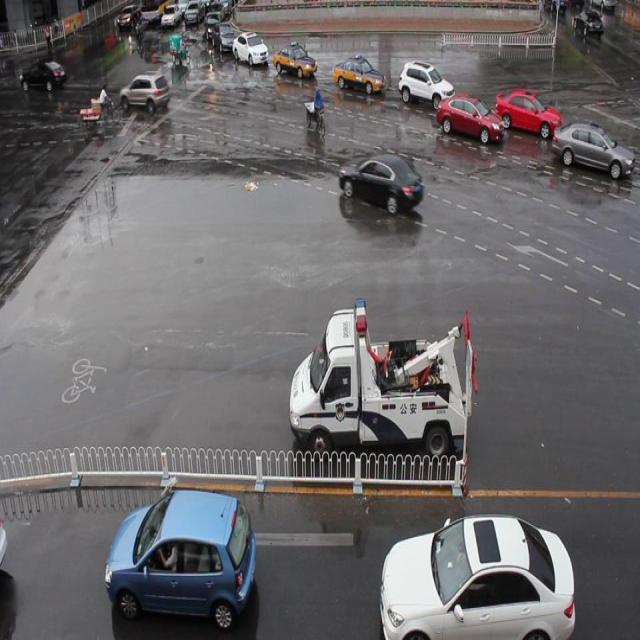bus: (288, 296, 476, 461)
car: (379, 511, 574, 640), (104, 486, 257, 630), (339, 150, 422, 217), (551, 119, 640, 180), (493, 86, 561, 138), (436, 93, 503, 145), (398, 59, 454, 112), (119, 70, 170, 116), (333, 53, 386, 95), (273, 40, 316, 78), (233, 29, 269, 69), (214, 20, 239, 55)
